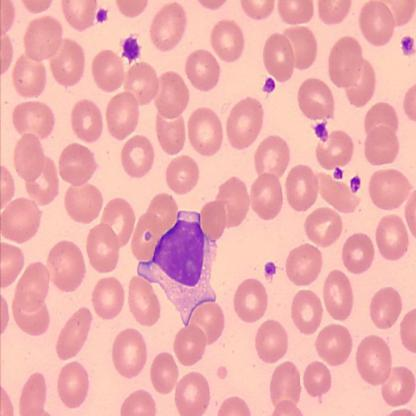Atypical lymphocyte: (137, 208, 220, 325)
